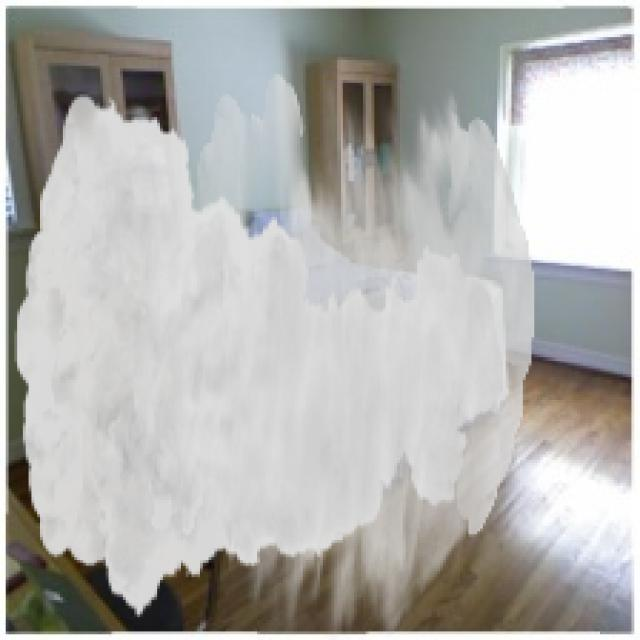smoke: (14, 74, 537, 637)
